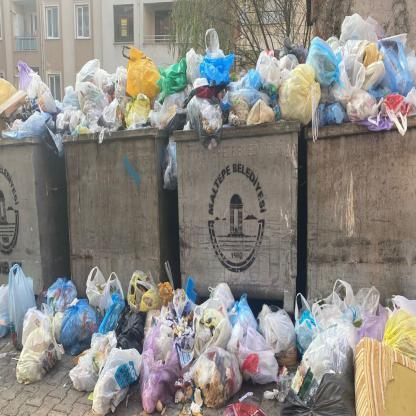Garbage: (2, 14, 414, 122), (185, 336, 251, 416), (136, 328, 175, 413), (114, 267, 168, 327), (279, 62, 321, 132), (83, 343, 130, 405), (258, 298, 302, 363), (240, 326, 284, 390), (1, 263, 36, 340), (319, 295, 396, 330), (185, 305, 237, 356), (5, 327, 61, 374), (376, 28, 414, 96), (6, 59, 52, 114), (61, 289, 107, 344), (342, 31, 382, 92), (186, 95, 229, 150), (182, 46, 235, 84), (318, 316, 350, 369), (308, 36, 342, 82), (161, 126, 178, 197), (80, 81, 110, 115), (260, 48, 286, 84), (234, 68, 262, 101), (160, 59, 192, 87), (99, 103, 128, 132), (342, 92, 376, 116), (132, 96, 151, 134), (45, 126, 64, 163), (72, 51, 98, 78), (161, 93, 181, 126), (61, 80, 79, 112)
